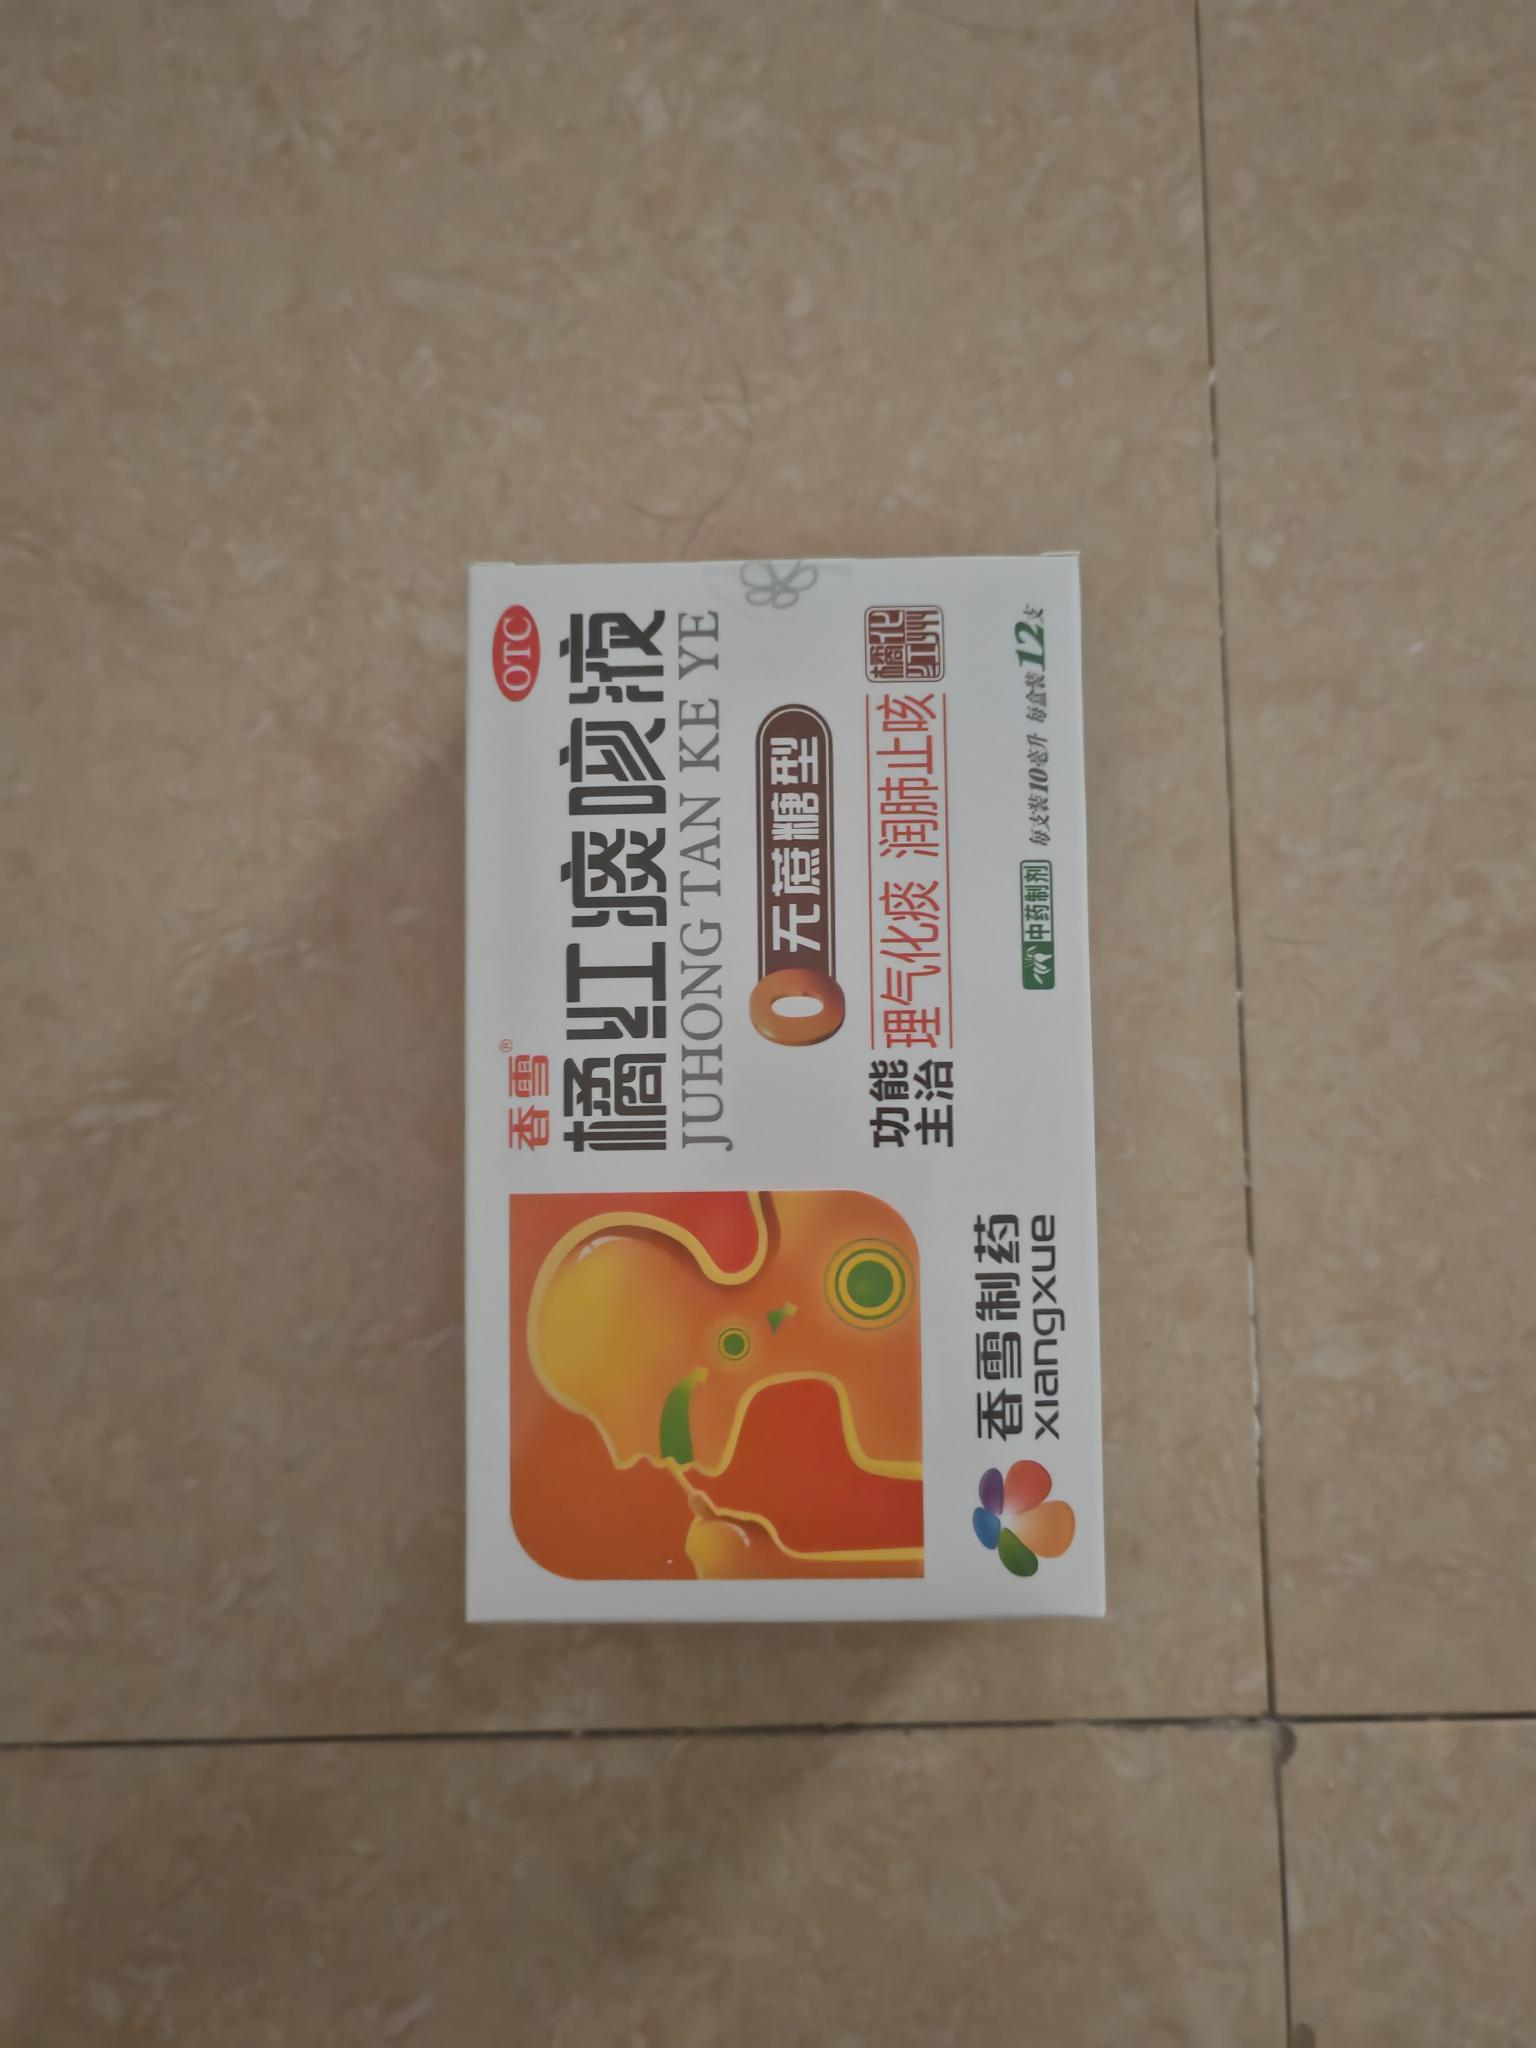Medicine1: (431, 532, 1141, 1667)
